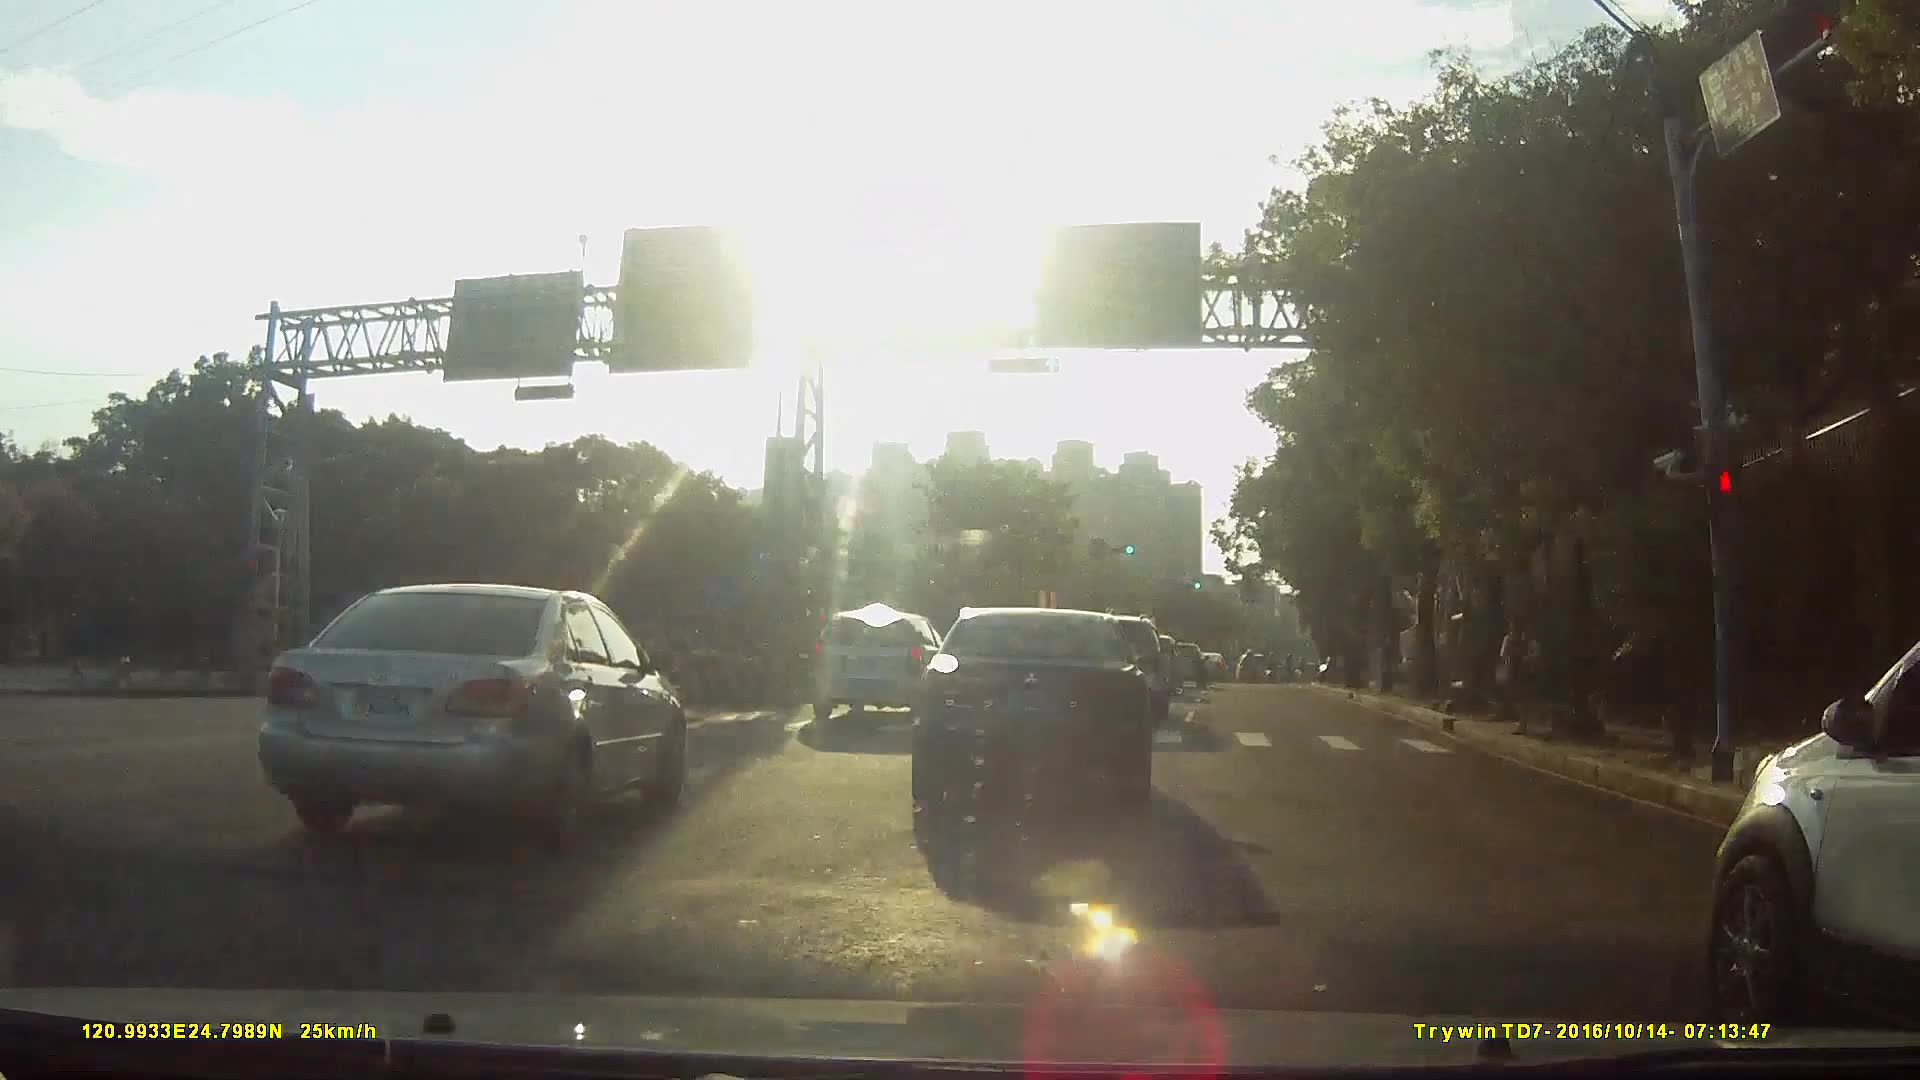pedestrian: (1490, 614, 1546, 734)
vehicle: (232, 577, 688, 850), (1648, 579, 1920, 1033), (889, 605, 1160, 816), (798, 605, 944, 719), (1150, 640, 1198, 688), (1185, 651, 1219, 679)
